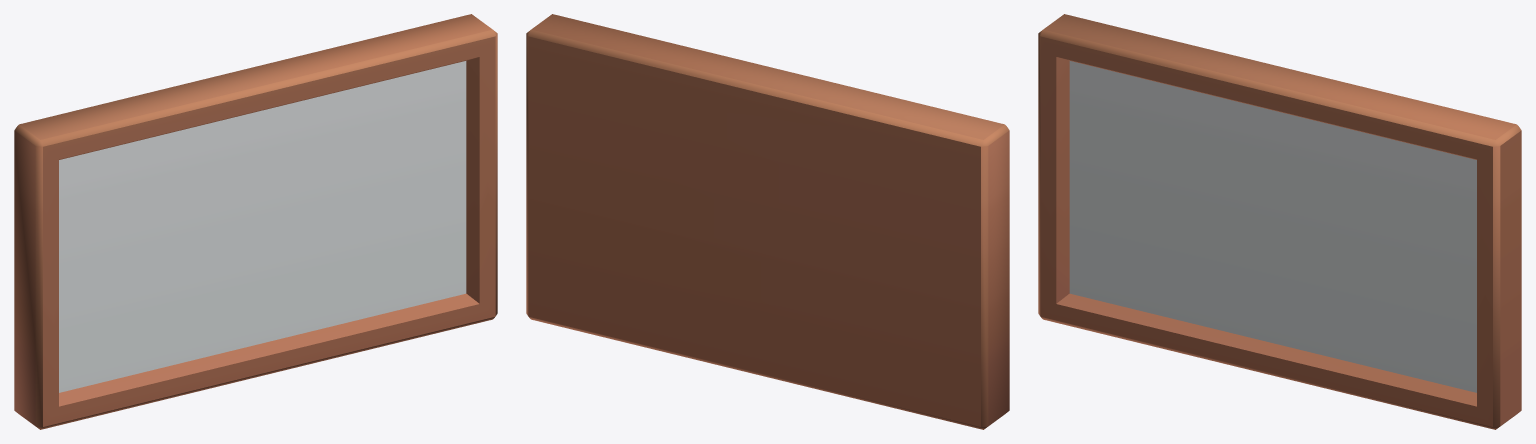
The model's file is pictureframe_large_B.glb.
The picture shows the model from 3 angles, left to right: view 1: azimuth 30°, elevation 25°; view 2: azimuth 150°, elevation 25°; view 3: azimuth 330°, elevation 25°; orthographic projection.
Parts seen in each view (by area): view 1: pictureframe_large_B; view 2: pictureframe_large_B; view 3: pictureframe_large_B.
Part boxes in pixels (<box>): pictureframe_large_B: <box>14,14,497,429</box>; pictureframe_large_B: <box>526,14,1009,429</box>; pictureframe_large_B: <box>1038,14,1521,429</box>.
Size of the model in its own units: 2 by 1.2 by 0.2.
1 material, 1 textured.
